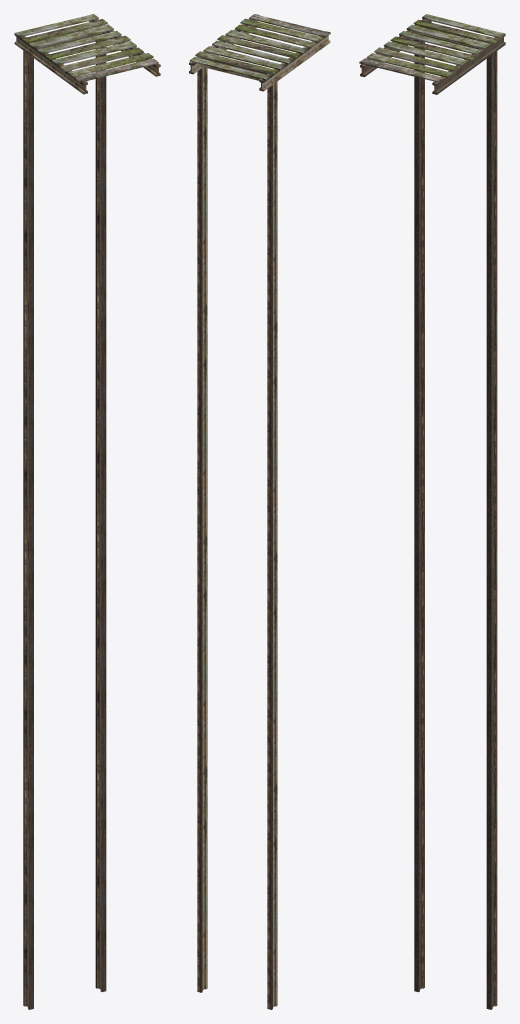
3 renders of one model, left to right at view 1: azimuth 30°, elevation 25°; view 2: azimuth 150°, elevation 25°; view 3: azimuth 330°, elevation 25°, orthographic. The views are drawn at different scales.
Visible parts, largest first — view 1: G, Ramp_001__53_; view 2: G, Ramp_001__53_; view 3: G, Ramp_001__53_.
Boxes of the visible parts, box(x1,y1,x2,y2) form: G: box(23, 39, 106, 1009); Ramp_001__53_: box(14, 14, 160, 94); G: box(197, 67, 277, 1009); Ramp_001__53_: box(189, 14, 330, 91); G: box(414, 40, 497, 1009); Ramp_001__53_: box(359, 14, 505, 94).
Size of the model in its own units: 206 by 2330 by 300.
